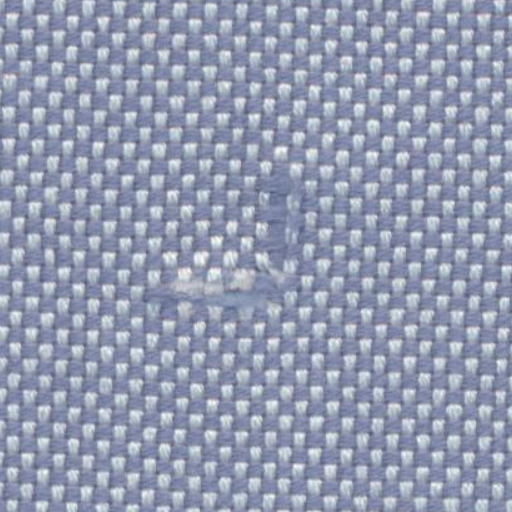PoDong: (122, 254, 317, 343)
